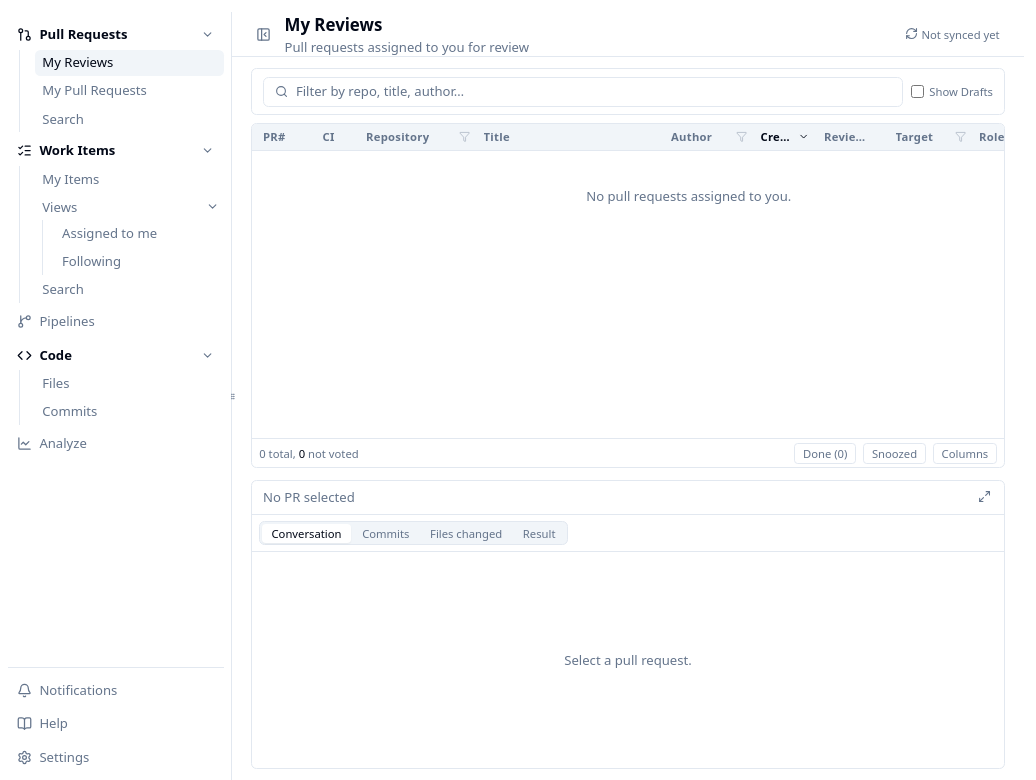
Test: App — Setup › shows configured organizations
Expected: the text "No pull requests assigned to you." is shown, [586,187,791,205]
What coordinates should you click on to do the following:
click the button "Settings"
I would click on:
 (116, 758)
Its box is [8,742,224,772].
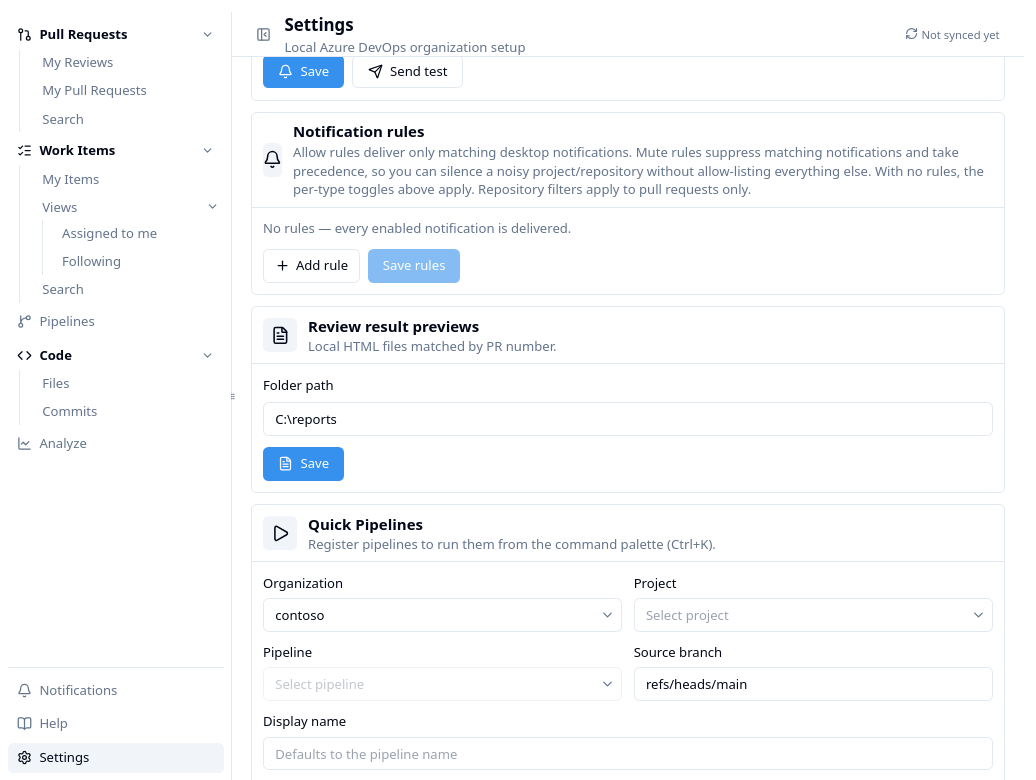
Expected: the field showing "C:\\reports" is shown, [263,402,993,436]
